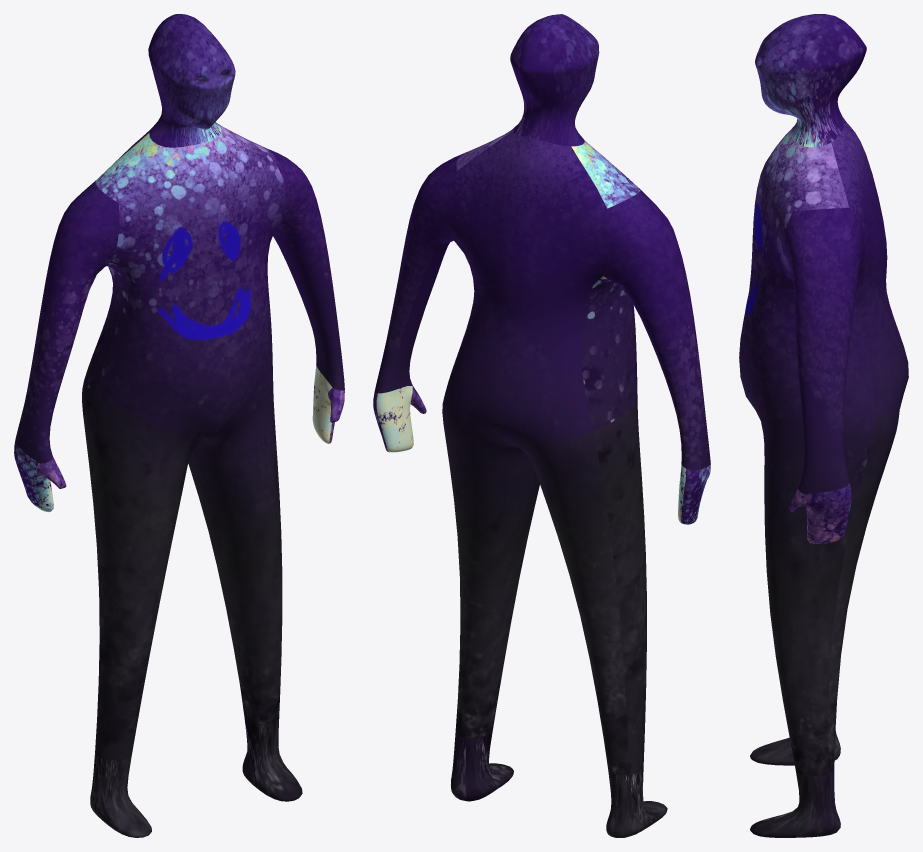
Rendered from MaraLepiksone_1uzd_07 l.glb.
3 views of the same model, side by side, from view 1: azimuth 30°, elevation 25°; view 2: azimuth 150°, elevation 25°; view 3: azimuth 270°, elevation 25° (orthographic). The views are drawn at different scales.
Visible parts, largest first — view 1: Cube; view 2: Cube; view 3: Cube.
Boxes of the visible parts, bbox=[...] form: Cube: bbox=[14, 14, 344, 837]; Cube: bbox=[373, 14, 710, 837]; Cube: bbox=[739, 14, 908, 837].
Bounding box in the file's own units: 2.57 × 6.03 × 1.18.
Materials: 1 (1 with a texture image).
